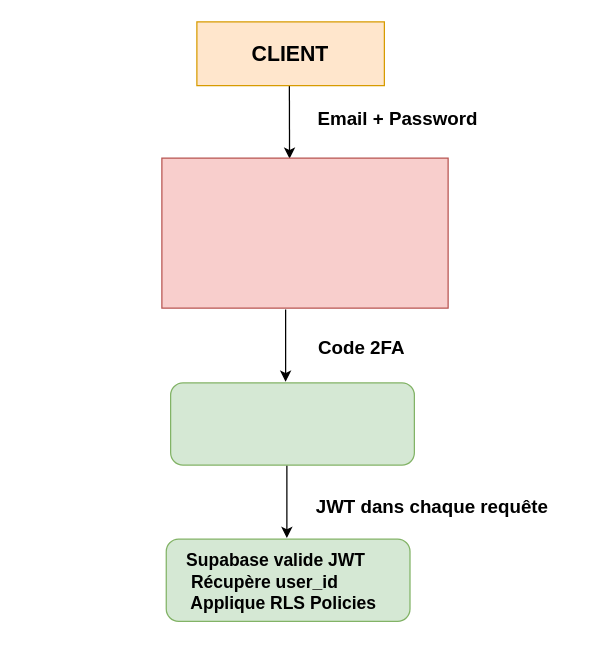
Image size: 591x656. Some labels were removed from this diagram. The shapes that lost their labels are listed below. From the top down, each one's centre as x and y in pixels, then its label:
[304,232]: Supabase Auth 1. Hash password (bcrypt) 2. Générer JWT 3. Envoyer code 2FA
[291,423]: Client reçoit JWT (stocké en secure cookie)
